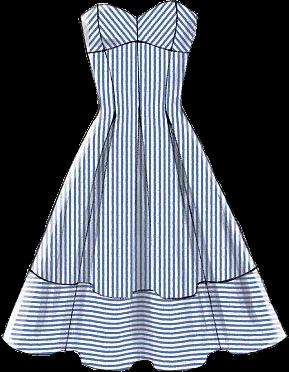Bodice: (81, 0, 197, 103)
Hemline: (1, 333, 287, 371)
Neckline: (80, 0, 198, 20), (85, 39, 190, 55)
Skirt: (1, 103, 286, 370)
Waistline: (26, 264, 256, 301)
